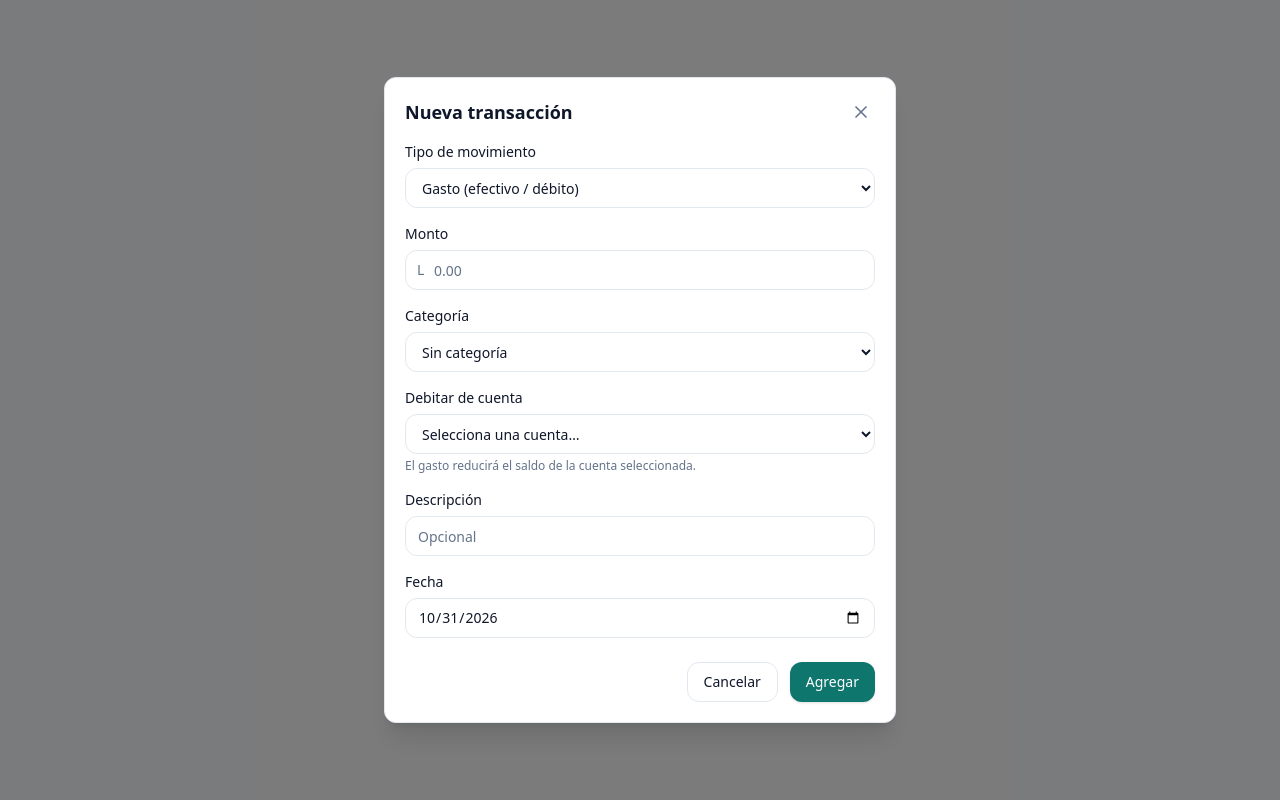
Test case: revisión recurrente en formulario manual › un error consultando coincidencias no guarda silenciosamente
Type "100" into the number field labelled "Monto" at (640, 270), box [405,250,875,290]
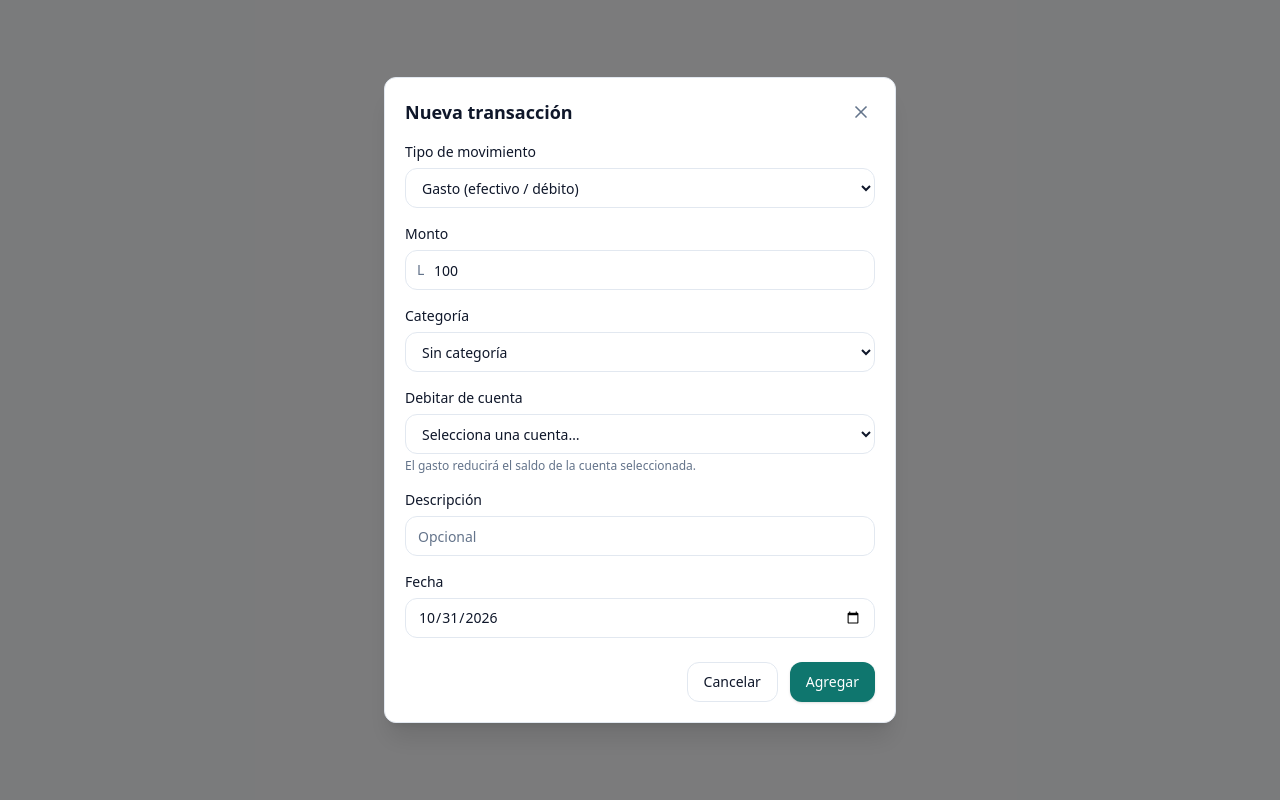
Select "Spotify" in the dropdown labelled "Categoría" at (640, 352), box [405,332,875,372]
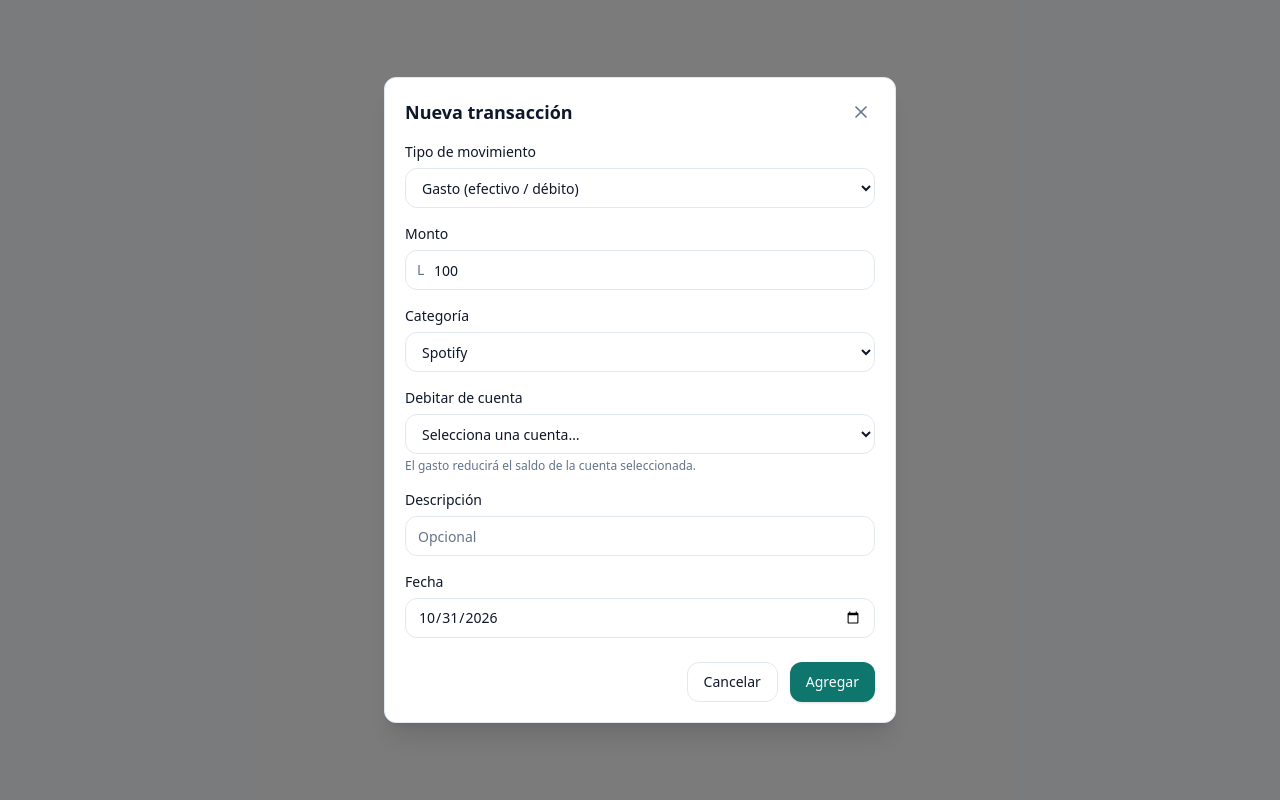
Select "Banco" in the dropdown labelled "Debitar de cuenta" at (640, 434), box [405,414,875,454]
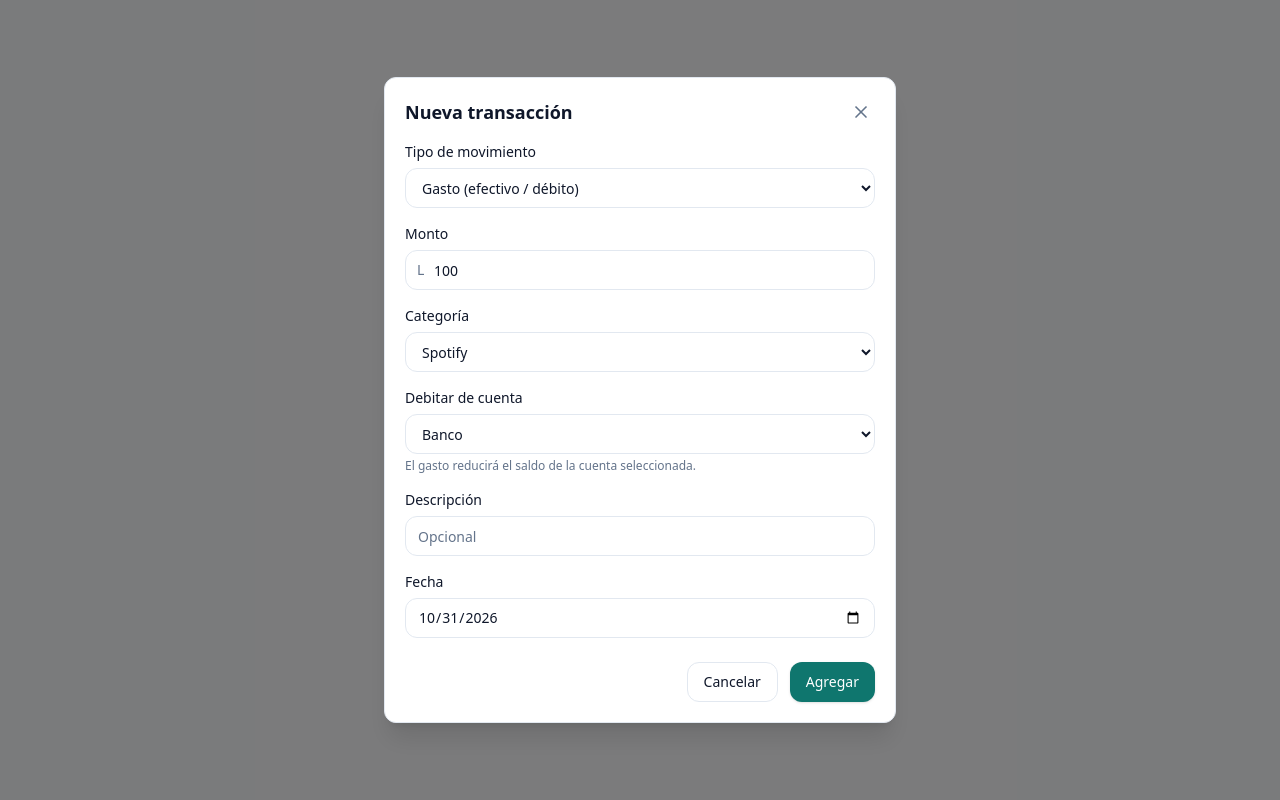
Type "2026-09-12" into the date field labelled "Fecha" at (640, 618), box [405,598,875,638]
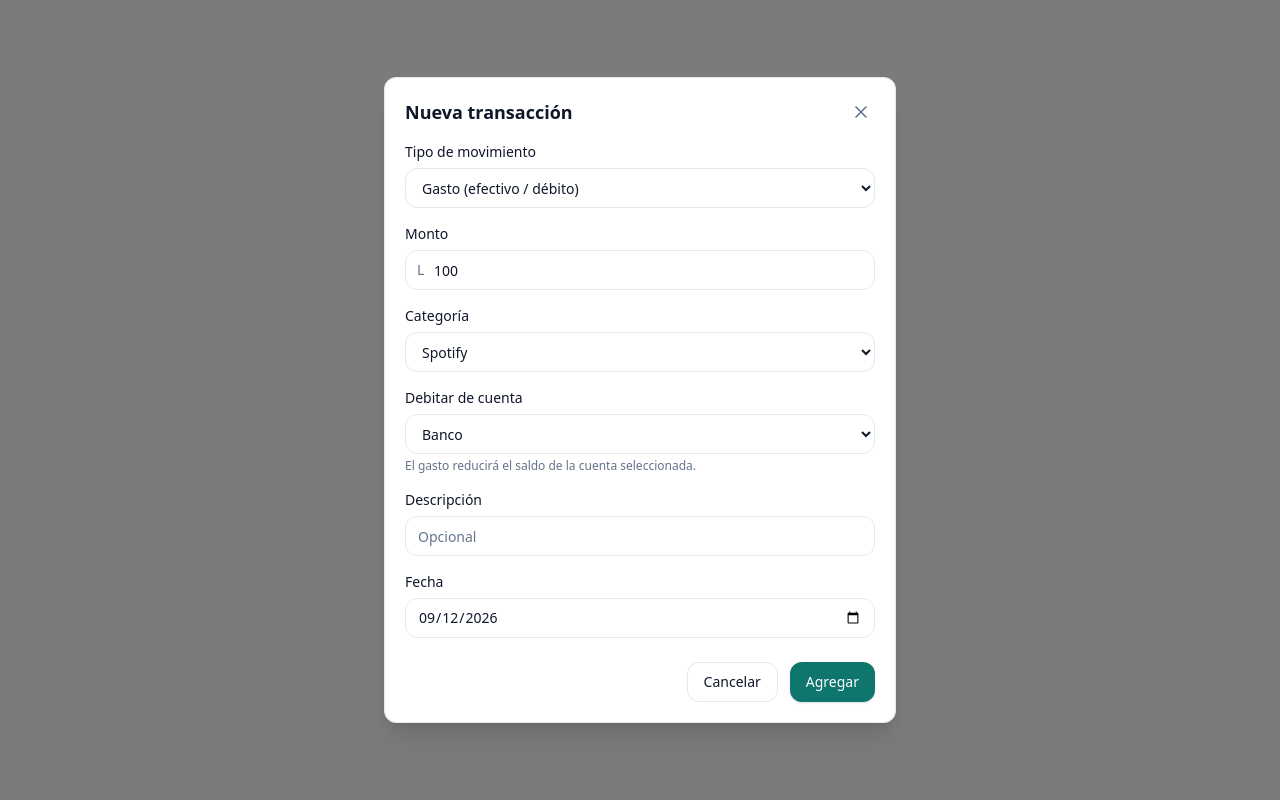
Click the button "Agregar" at (832, 682), box [790,662,875,702]
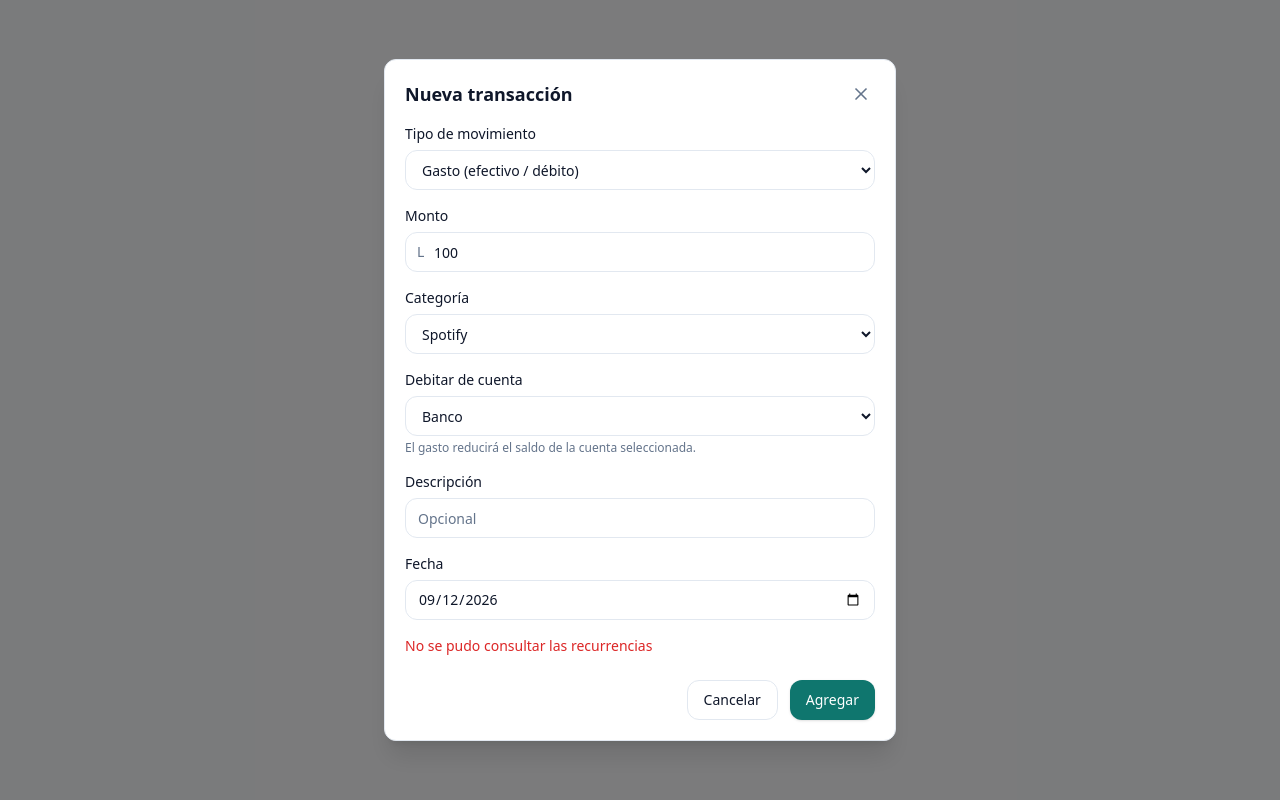
Now the text "No se pudo consultar las recurrencias" is shown, box [405,636,652,655]
